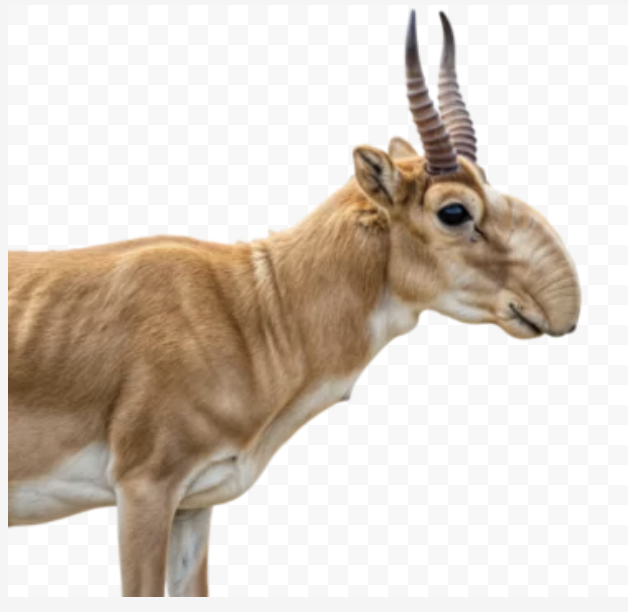saiga: (31, 9, 589, 602)
